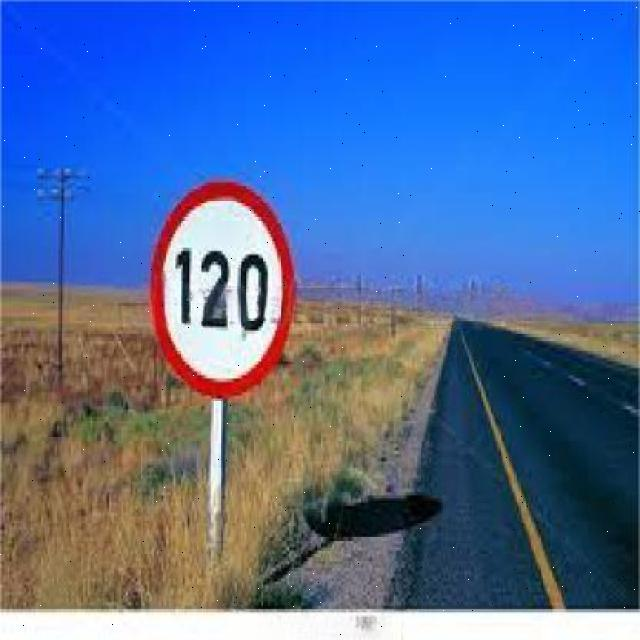speed limit 120: (151, 179, 295, 402)
